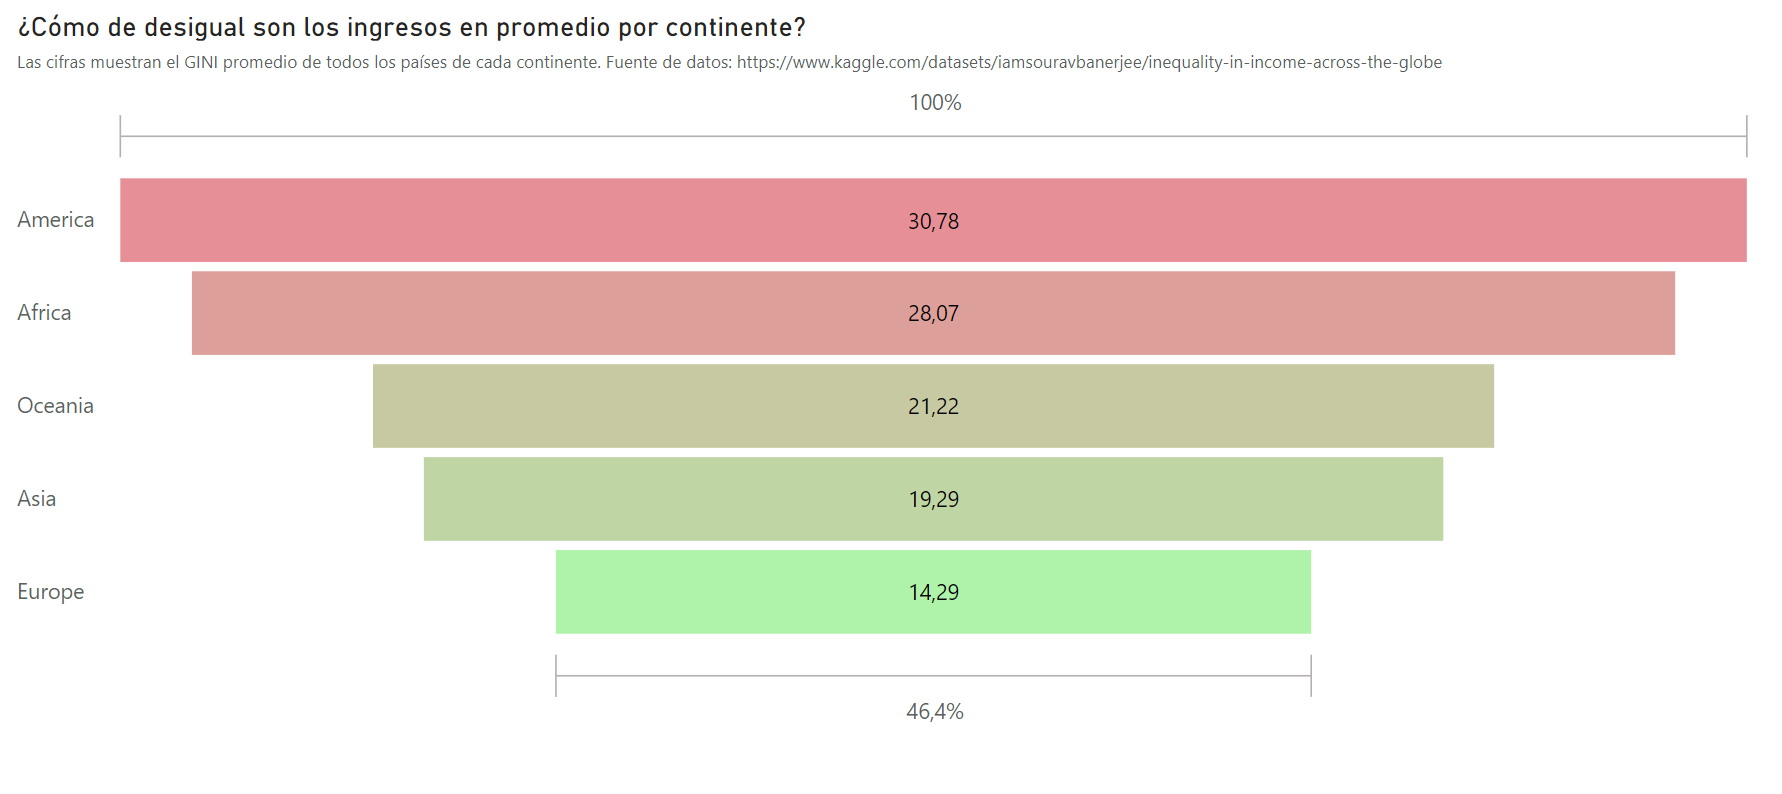

The page's visual inventory and layout, read from the dashboard file:
{"tool":"powerbi","page":{"name":"Página 2","canvas":[1280,720],"ordinal":1},"visuals":[{"type":"funnel","title":"¿Cómo de desigual son los ingresos en promedio por continente?","fields":{"Category":["Inequality in Income.Continent"],"Y":["Avg(Inequality in Income.Inequality in income (2021))"]},"box":[74.8,140.4,1084.9,450.9],"z":0}]}

Visuals, with their boxes on the page's 1280x720 design canvas (x1, y1, x2, y2). These are canvas units, not pixel positions in the 1782x794 screenshot, which may show the page scaled, cropped or inside an application window:
"¿Cómo de desigual son los ingresos en promedio por continente?" funnel: 75 140 1160 591
